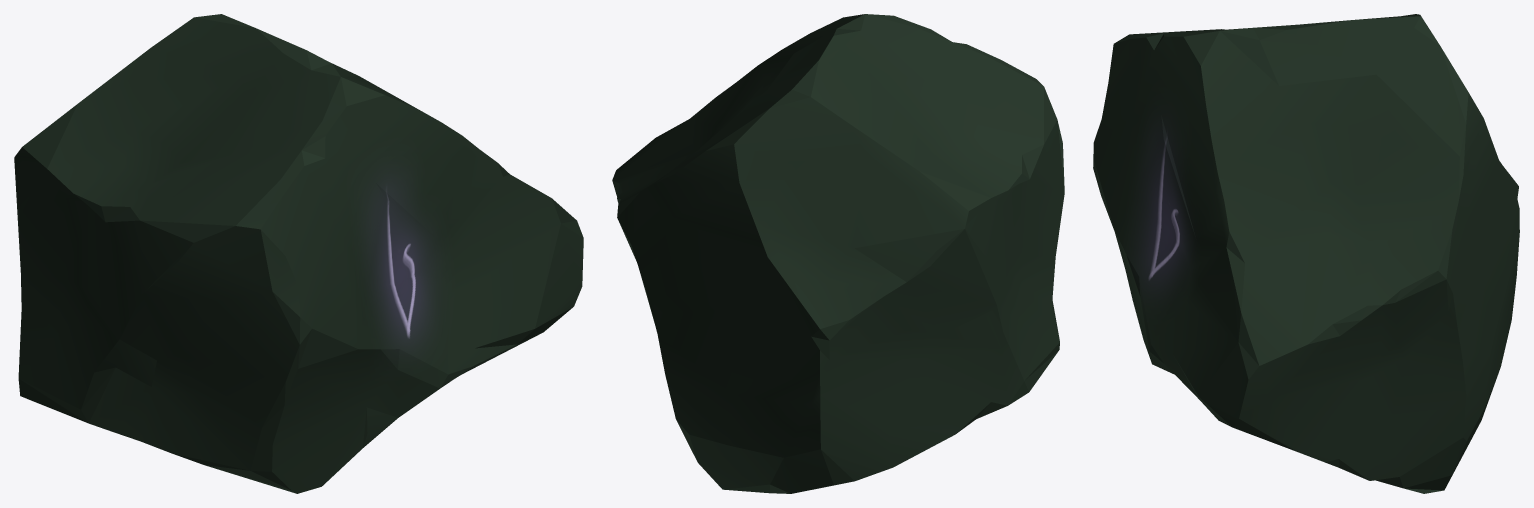
File: Rock_4.FBX
The picture shows the model from 3 angles, left to right: view 1: azimuth 30°, elevation 25°; view 2: azimuth 150°, elevation 25°; view 3: azimuth 270°, elevation 25°; orthographic projection. The views are drawn at different scales.
Visible parts, largest first — view 1: GeoSphere001; view 2: GeoSphere001; view 3: GeoSphere001.
Part boxes in pixels (<box>): GeoSphere001: <box>14,14,583,493</box>; GeoSphere001: <box>612,14,1064,493</box>; GeoSphere001: <box>1093,14,1519,493</box>.
Size of the model in its own units: 98.16 by 84.62 by 73.64.
